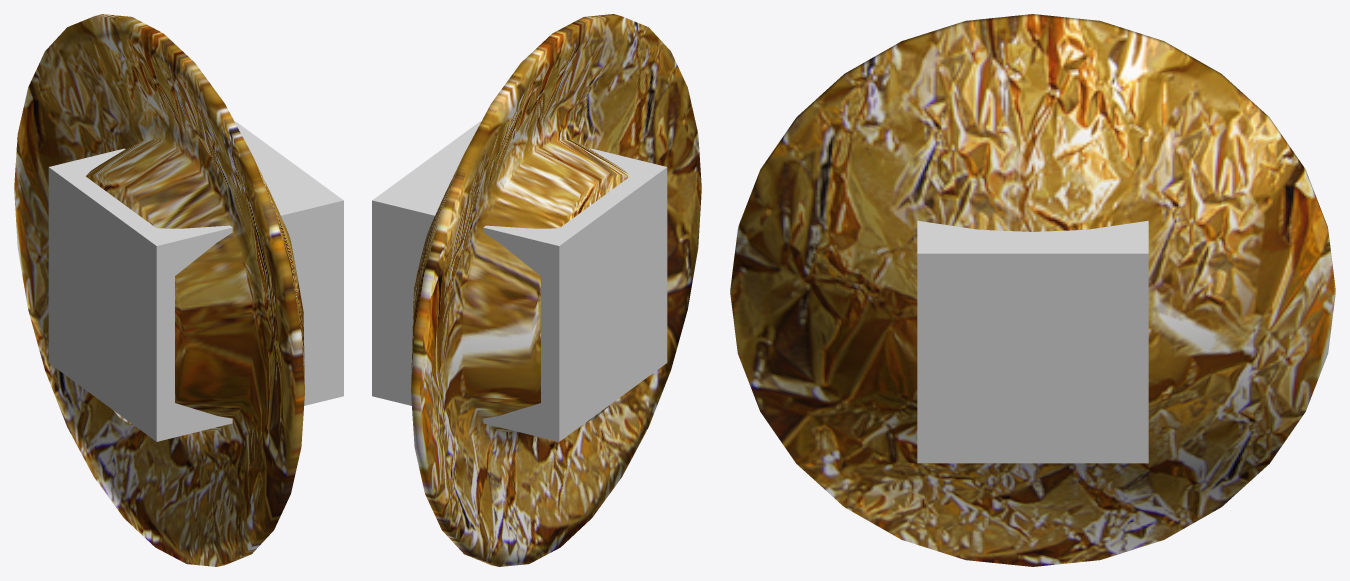
File: drone.glb
3 renders of one model, left to right at view 1: azimuth 30°, elevation 25°; view 2: azimuth 150°, elevation 25°; view 3: azimuth 270°, elevation 25°, orthographic. The views are drawn at different scales.
Visible parts, largest first — view 1: foil_gold_h, _root; view 2: foil_gold_h, _root; view 3: foil_gold_h, _root.
Boxes of the visible parts, bbox=[...] form: foil_gold_h: bbox=[14, 14, 304, 566]; _root: bbox=[48, 121, 343, 441]; foil_gold_h: bbox=[411, 14, 701, 566]; _root: bbox=[372, 121, 667, 441]; foil_gold_h: bbox=[730, 14, 1335, 566]; _root: bbox=[917, 220, 1148, 463].
Size of the model in its own units: 1 by 2.62 by 2.62.
Materials: 2 (1 with a texture image).
